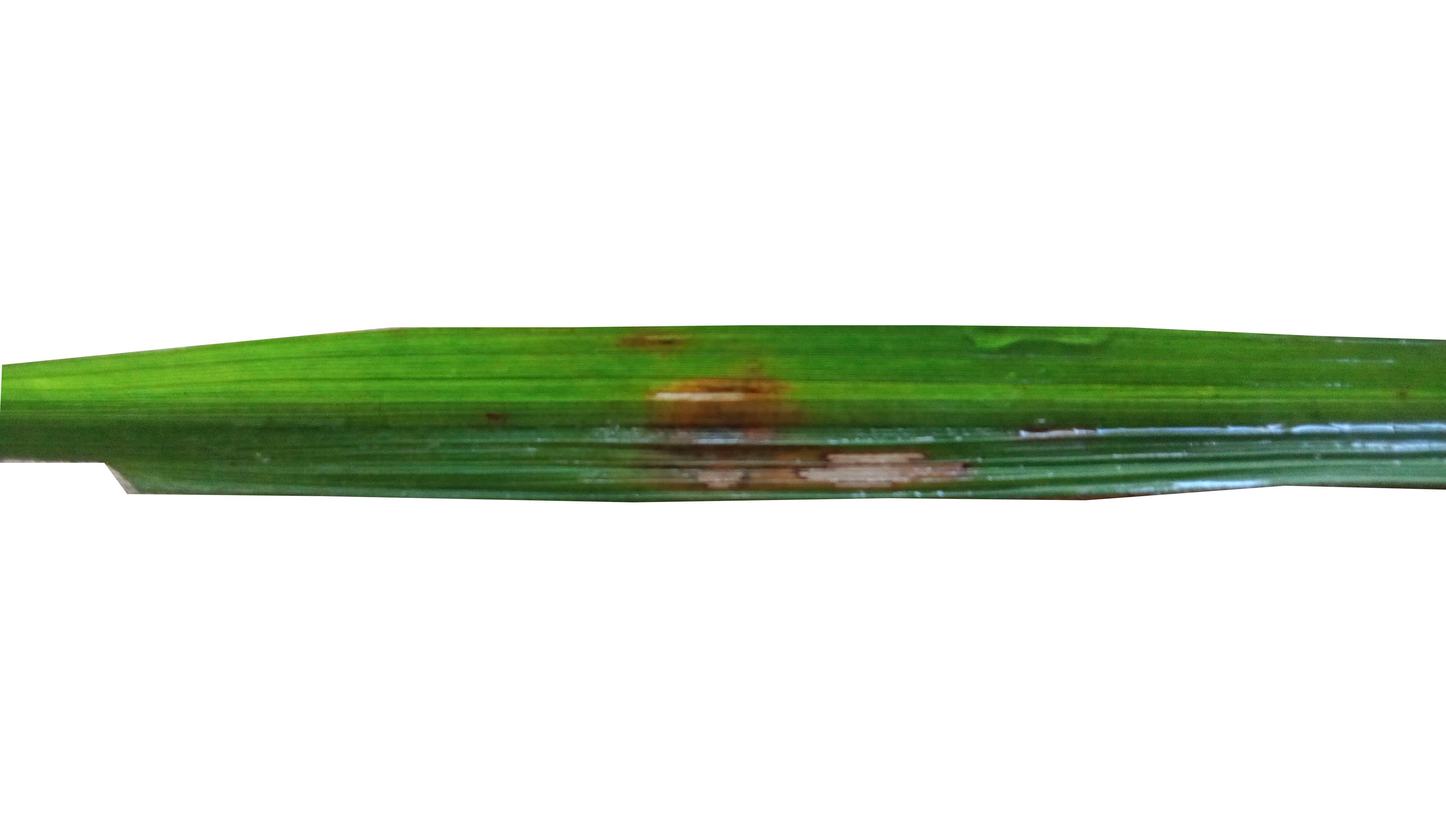Blight: (645, 380, 784, 495), (796, 427, 959, 492)
